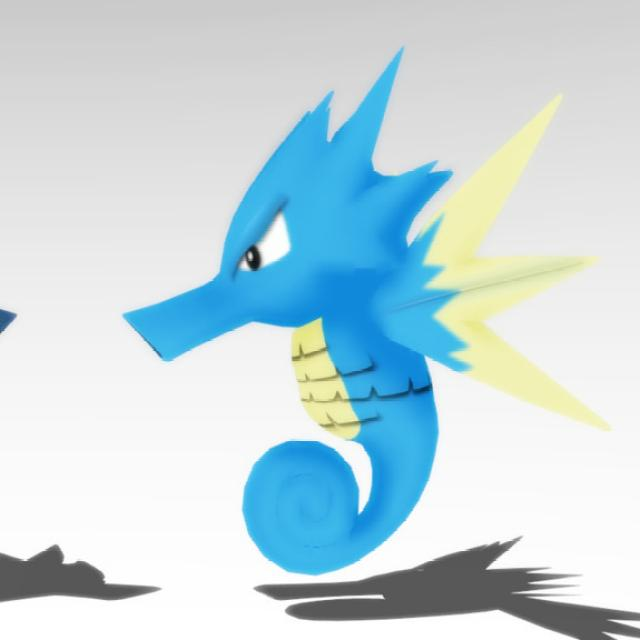Seadra: (121, 61, 583, 570)
